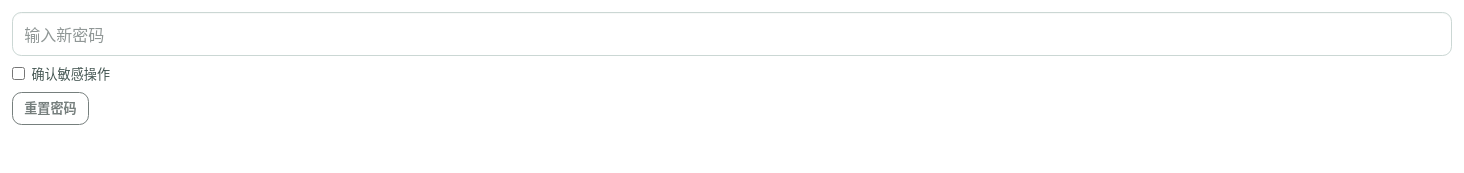
Test: ADMIN forms › keeps risky-operation confirmation and password on failure, then clears them only on success
Type "new-pass-123" into the password field named "新密码（不会显示现有密码）".
click(732, 34); type("new-pass-123")  # box [12, 12, 1452, 56]
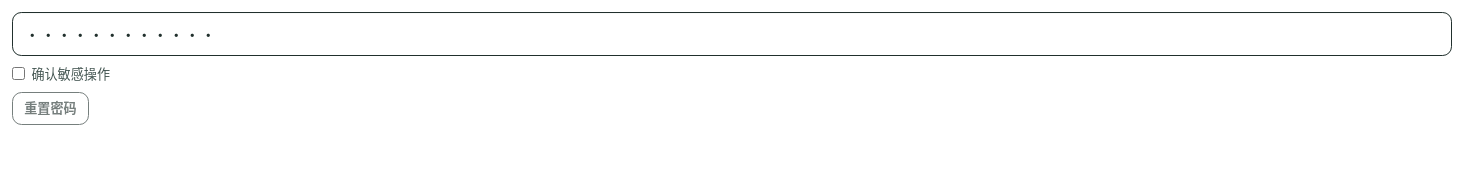
Click the checkbox labelled "确认敏感操作".
click(18, 74)  # box [12, 67, 25, 80]
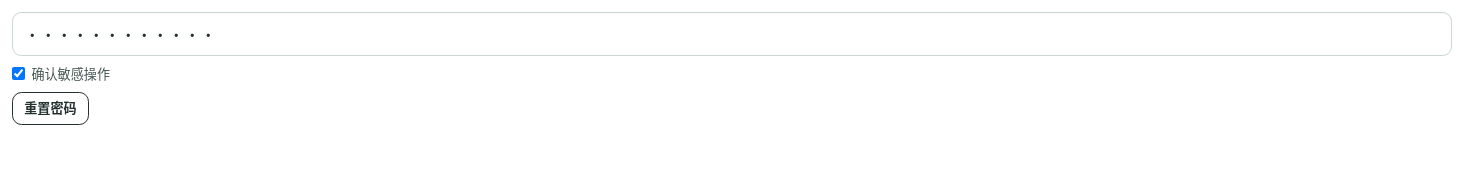
Click the button "重置密码".
click(50, 108)  # box [12, 92, 89, 125]
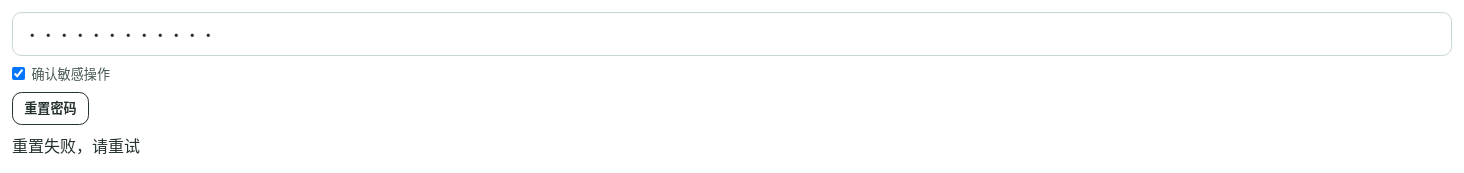
Result: the checkbox labelled "确认敏感操作" is checked at [12, 67, 25, 80]
Result: the text "重置失败，请重试" is shown at [12, 133, 140, 157]
Click the button "重置密码".
click(50, 108)  # box [12, 92, 89, 125]
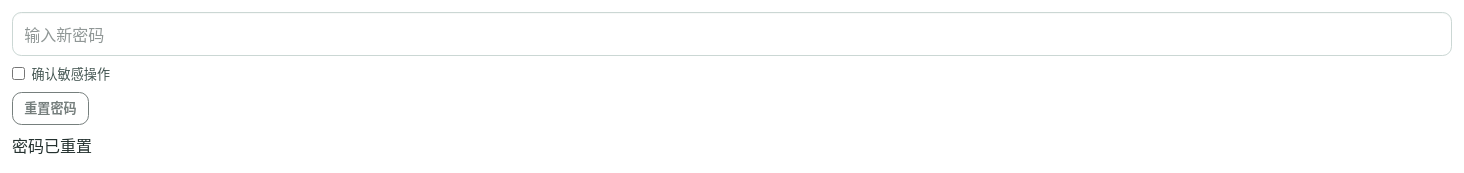
Result: the checkbox labelled "确认敏感操作" is not checked at [12, 67, 25, 80]
Result: the text "密码已重置" is shown at [12, 133, 92, 157]
Result: the password field named "新密码（不会显示现有密码）" is empty at [12, 12, 1452, 56]
